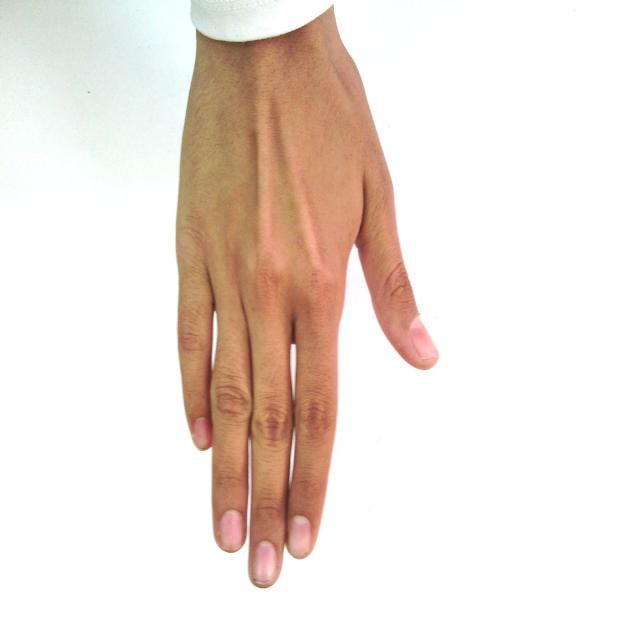Fingernail: (412, 317, 437, 359), (253, 542, 277, 583), (220, 511, 244, 551), (288, 517, 311, 557), (194, 419, 211, 448)
